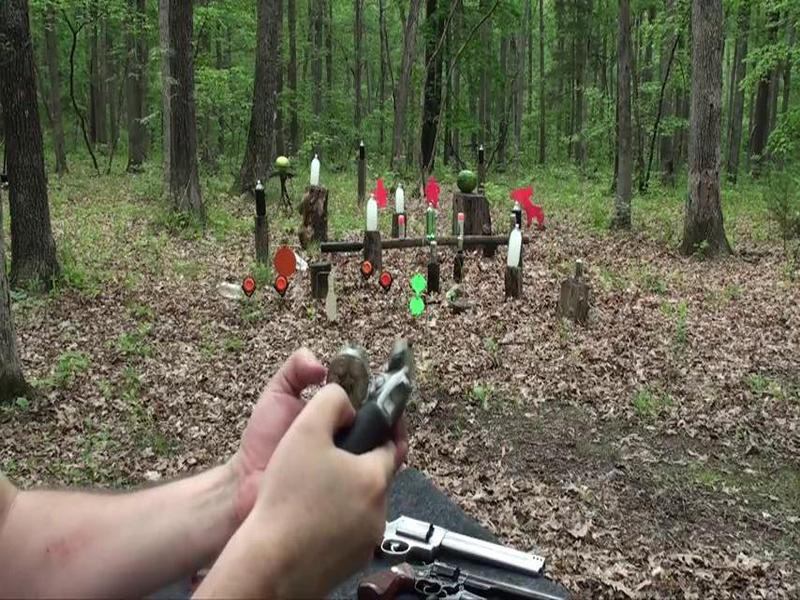Revolver: (378, 501, 569, 594)
